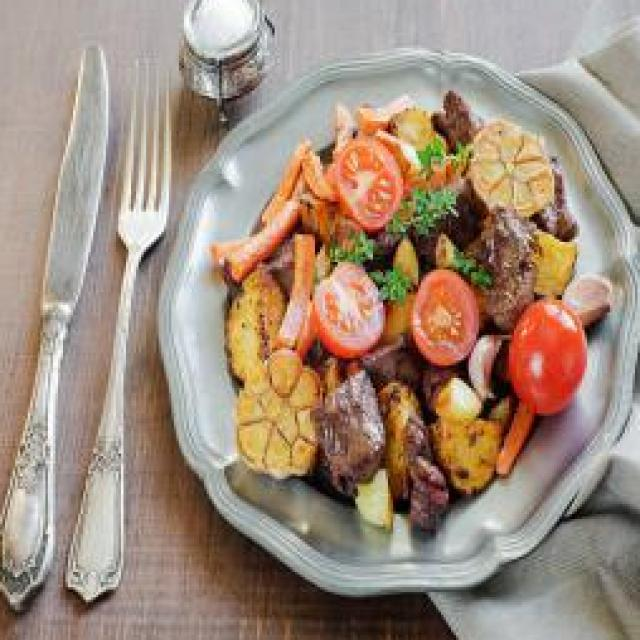knife: (0, 40, 119, 614)
